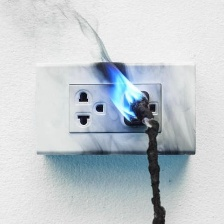three_eye_plug: (31, 59, 199, 158)
